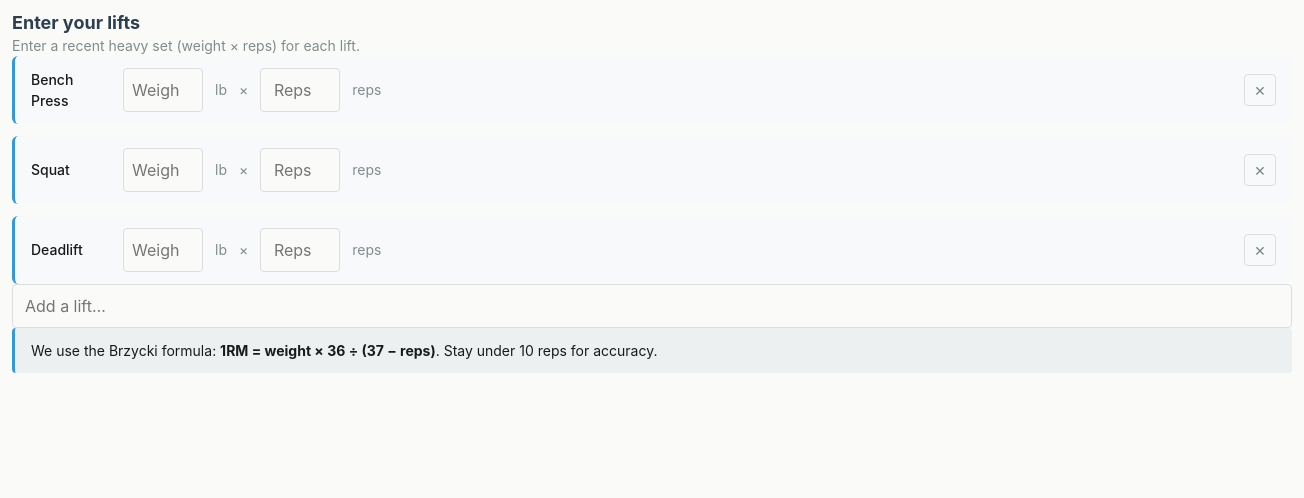
Test: StepLifts — add a lift › shows available catalog lifts when the input is focused with no query
This screenshot has width=1304, height=498.
Expected: the option "Overhead Press" is not shown
What coordinates should you click on to do the following:
click the dropdown labelled "Add a lift"
I would click on:
 (652, 306)
Its box is [12,284,1292,328].
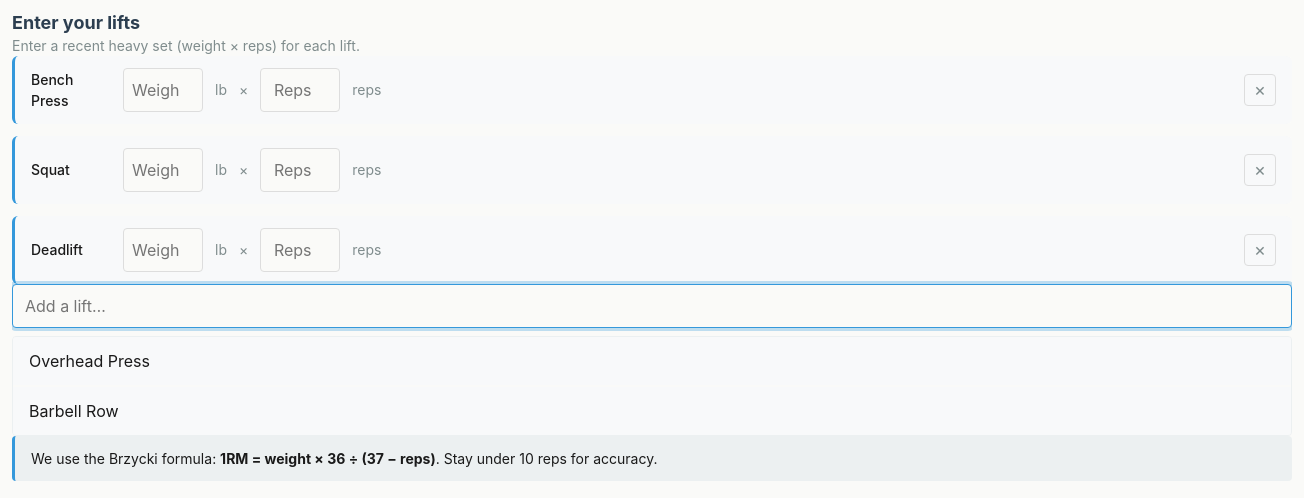
Expected: the option "Overhead Press" is shown, [13,336,1291,384]
Expected: the option "Barbell Row" is shown, [13,386,1291,434]
